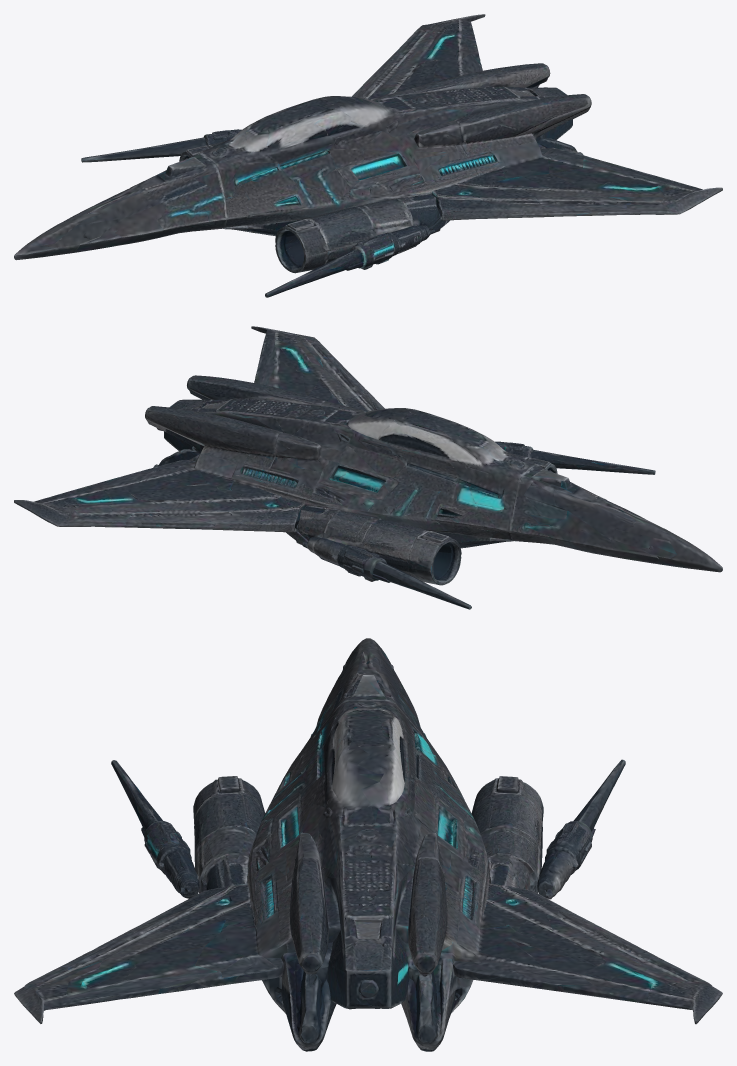
File: a_fighter.glb
3 views of the same model, one above another, from view 1: azimuth 30°, elevation 25°; view 2: azimuth 150°, elevation 25°; view 3: azimuth 270°, elevation 25° (orthographic). The views are drawn at different scales.
Parts seen in each view (by area): view 1: mesh_0; view 2: mesh_0; view 3: mesh_0.
Boxes of the visible parts, x1,y1,x2,y2 form: mesh_0: (14,14,722,297); mesh_0: (14,326,722,609); mesh_0: (14,638,722,1051).
Size of the model in its own units: 1.9 by 0.3832 by 1.44.
Materials: 1 (1 with a texture image).
